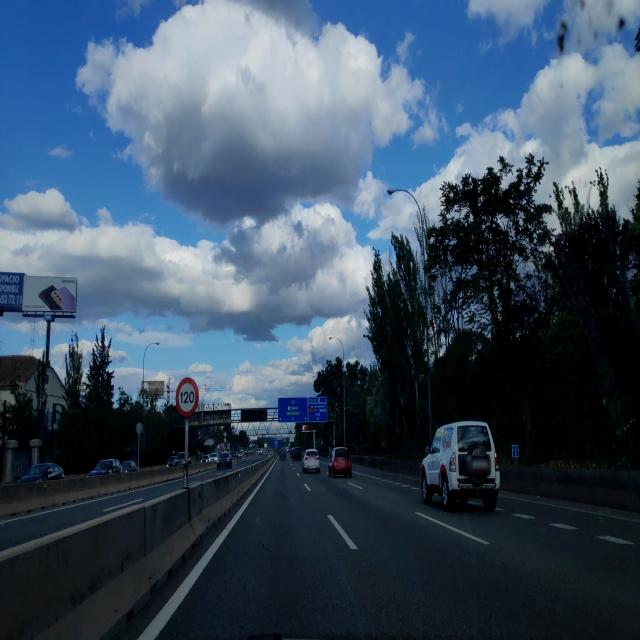car: (420, 418, 500, 512), (17, 462, 64, 484), (327, 445, 352, 480), (87, 457, 122, 476), (301, 448, 321, 474), (216, 450, 232, 470), (120, 458, 138, 474), (176, 451, 192, 467), (166, 452, 179, 469), (292, 446, 304, 461), (278, 447, 287, 461)
